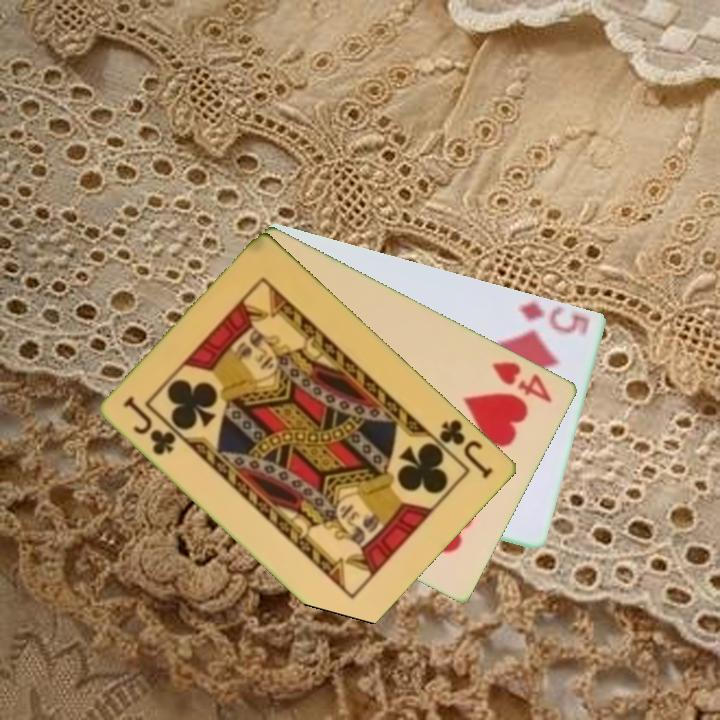4h: (489, 357, 556, 405)
5d: (514, 296, 593, 336)
Jc: (436, 416, 497, 482), (120, 392, 180, 459)
